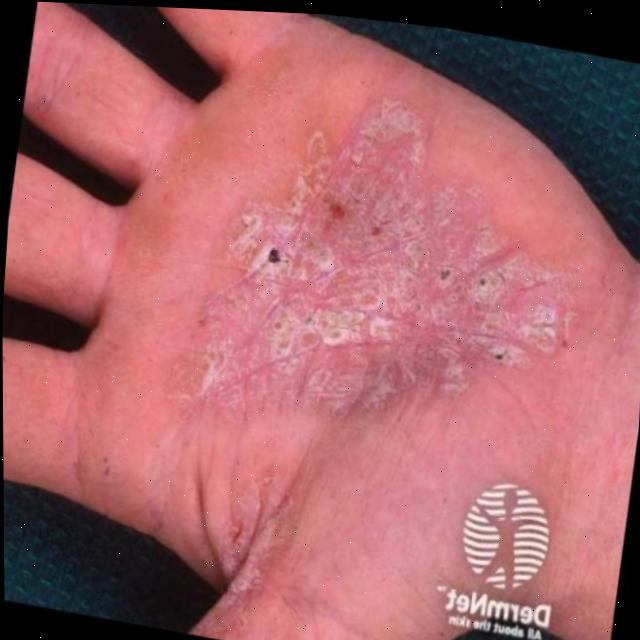Eczema: (277, 123, 543, 390)
